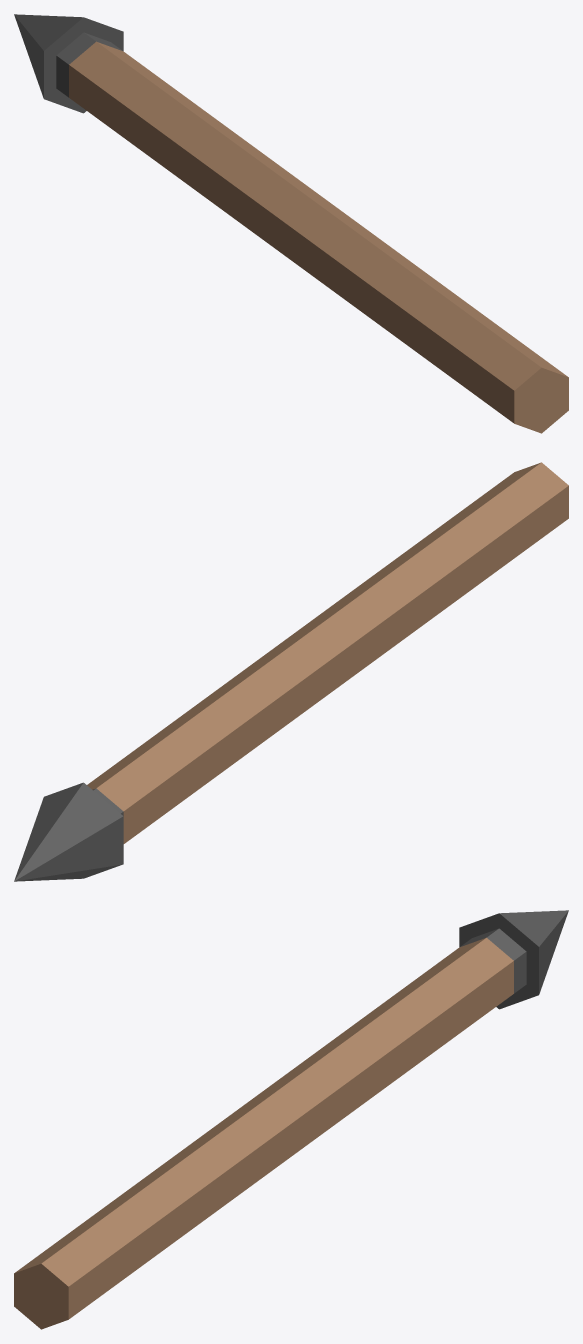
Rendered from BalistaProjectileModel.fbx.
3 views of the same model, one above another, from view 1: azimuth 30°, elevation 25°; view 2: azimuth 150°, elevation 25°; view 3: azimuth 330°, elevation 25° (orthographic).
Visible parts, largest first — view 1: BalistaProjectie; view 2: BalistaProjectie; view 3: BalistaProjectie.
Part boxes in pixels (<box>): BalistaProjectie: <box>14,14,568,433</box>; BalistaProjectie: <box>14,462,568,881</box>; BalistaProjectie: <box>14,910,568,1329</box>.
Size of the model in its own units: 0.6136 by 0.7085 by 7.04.
